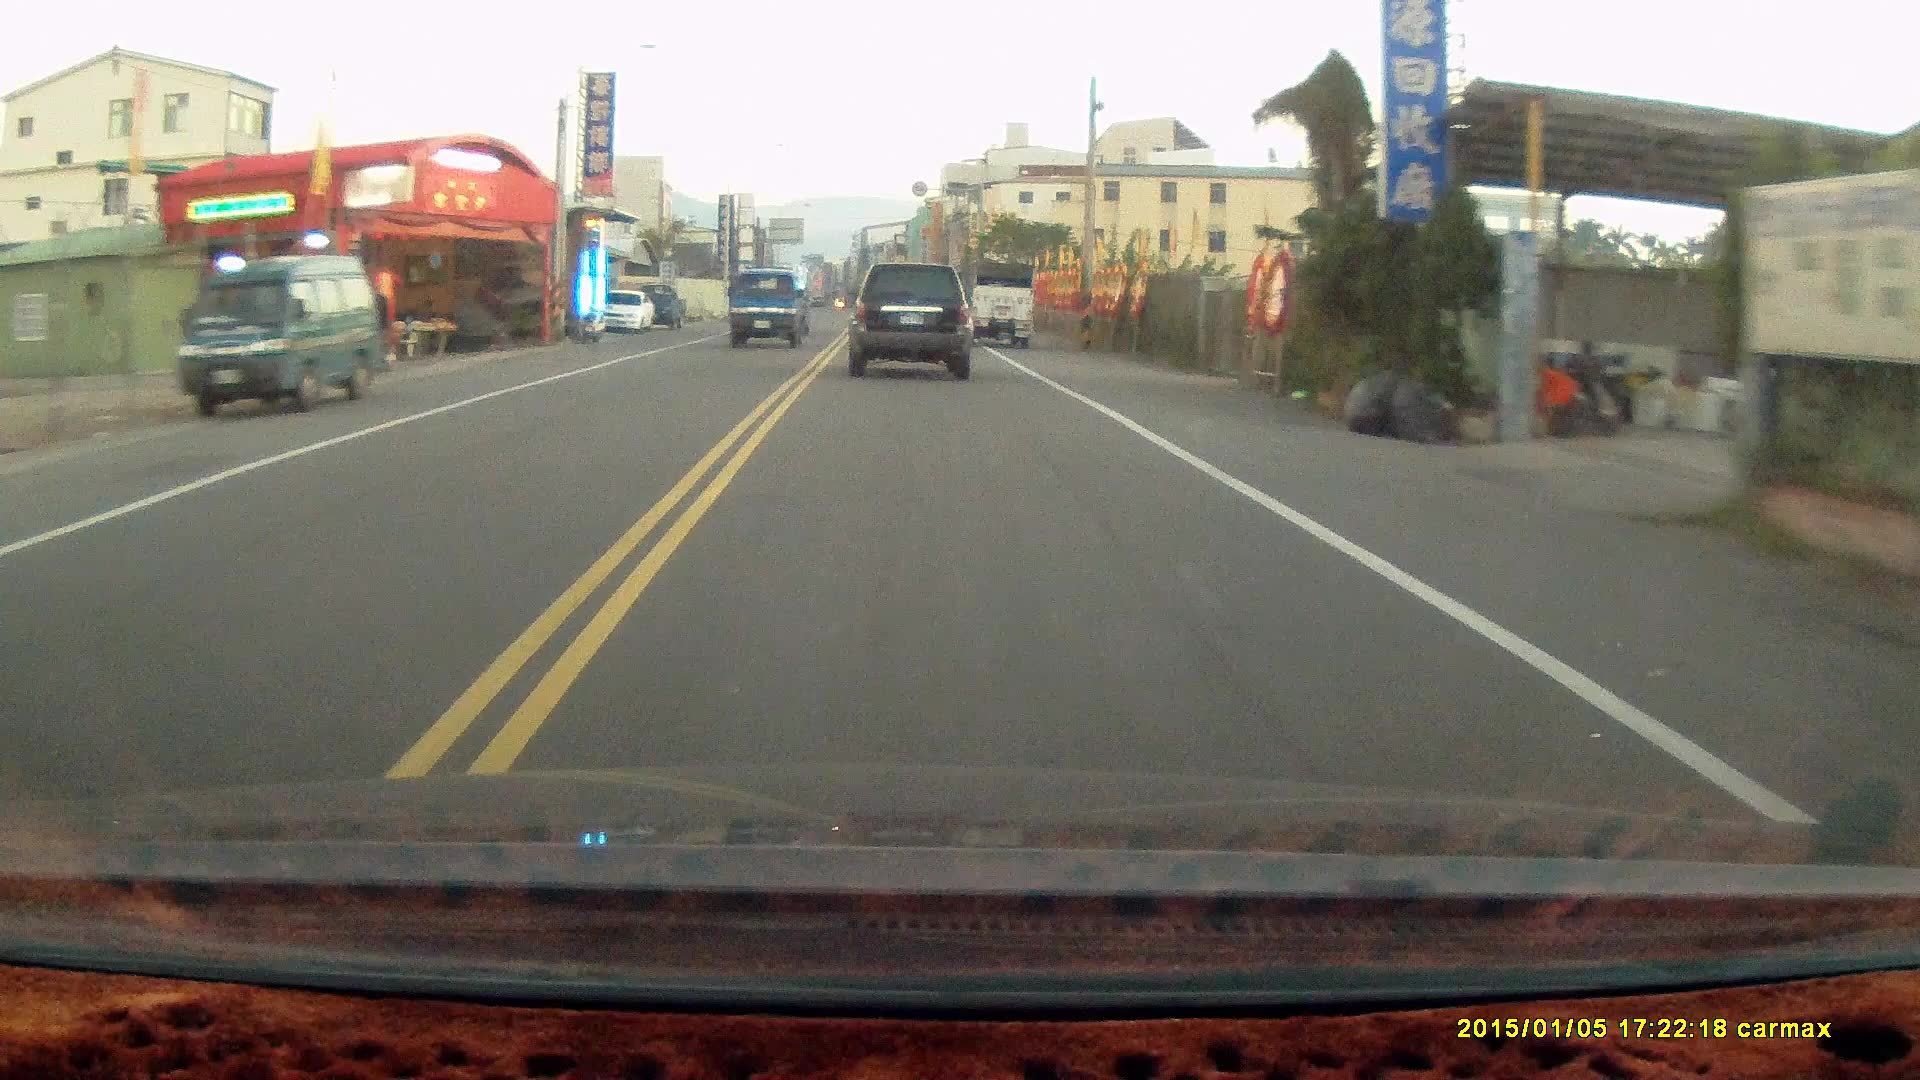vehicle: (183, 255, 380, 426), (851, 266, 975, 381), (943, 258, 1038, 351), (729, 274, 814, 357), (595, 291, 655, 335)
